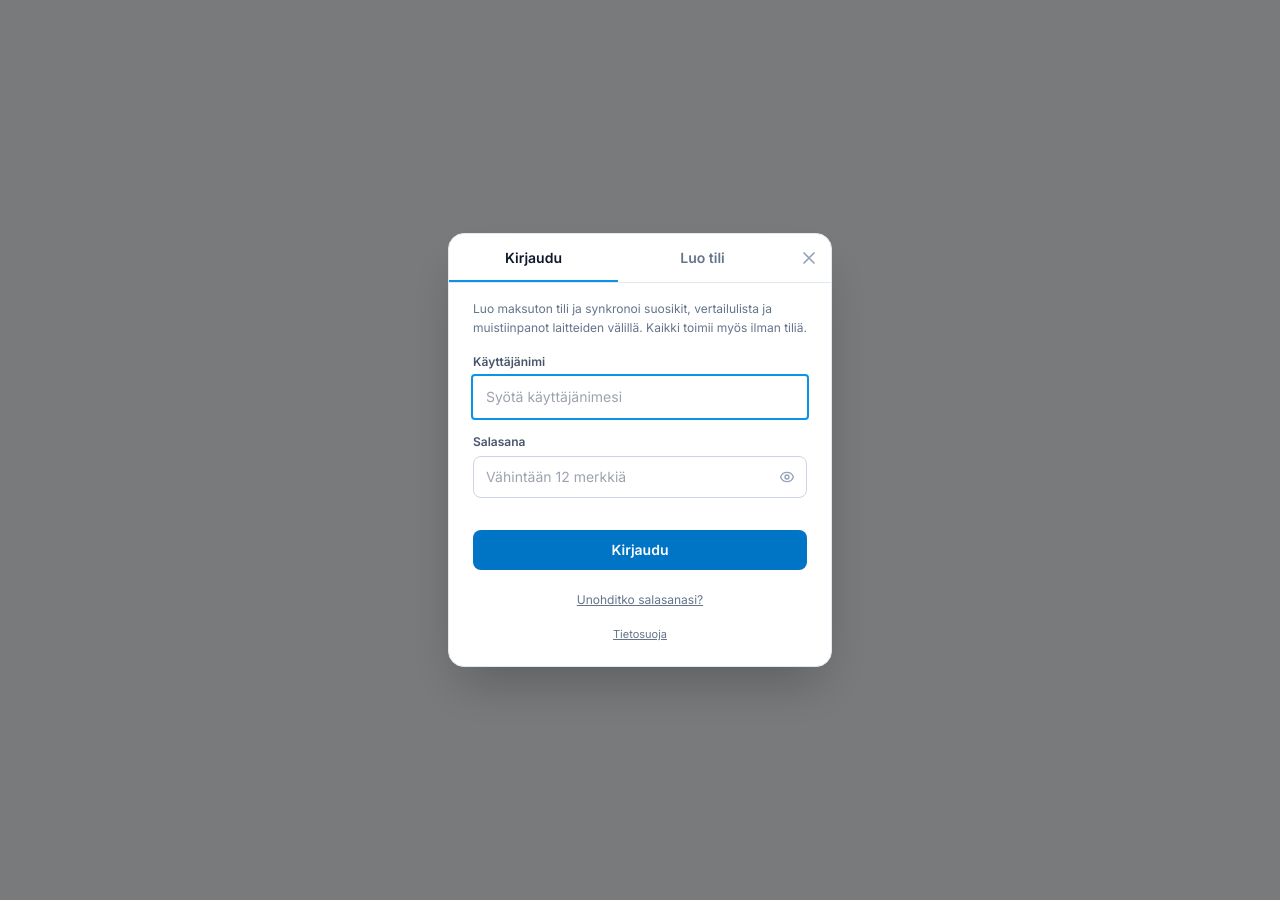
Test case: AuthModal — forgot password › returns to the login form from the reset view
What coordinates should you click on to do the following:
click the button "Unohditko salasanasi?"
I would click on:
 (640, 600)
Its box is [577, 592, 703, 608].
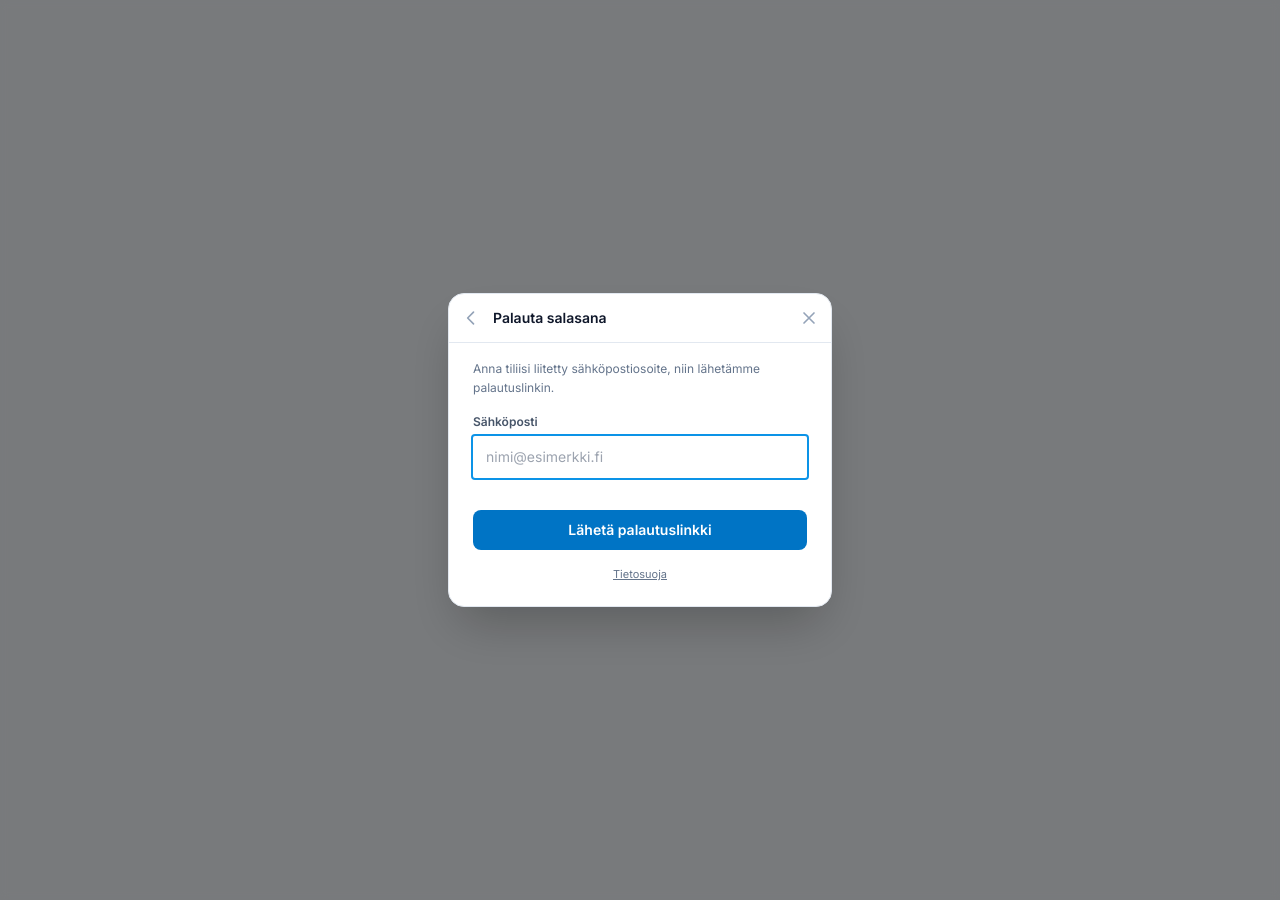
Expected: the button "Lähetä palautuslinkki" is shown, [473, 510, 807, 550]
What coordinates should you click on to do the following:
click the button named "Takaisin kirjautumiseen"
I would click on:
 (471, 318)
Its box is [449, 294, 493, 342].
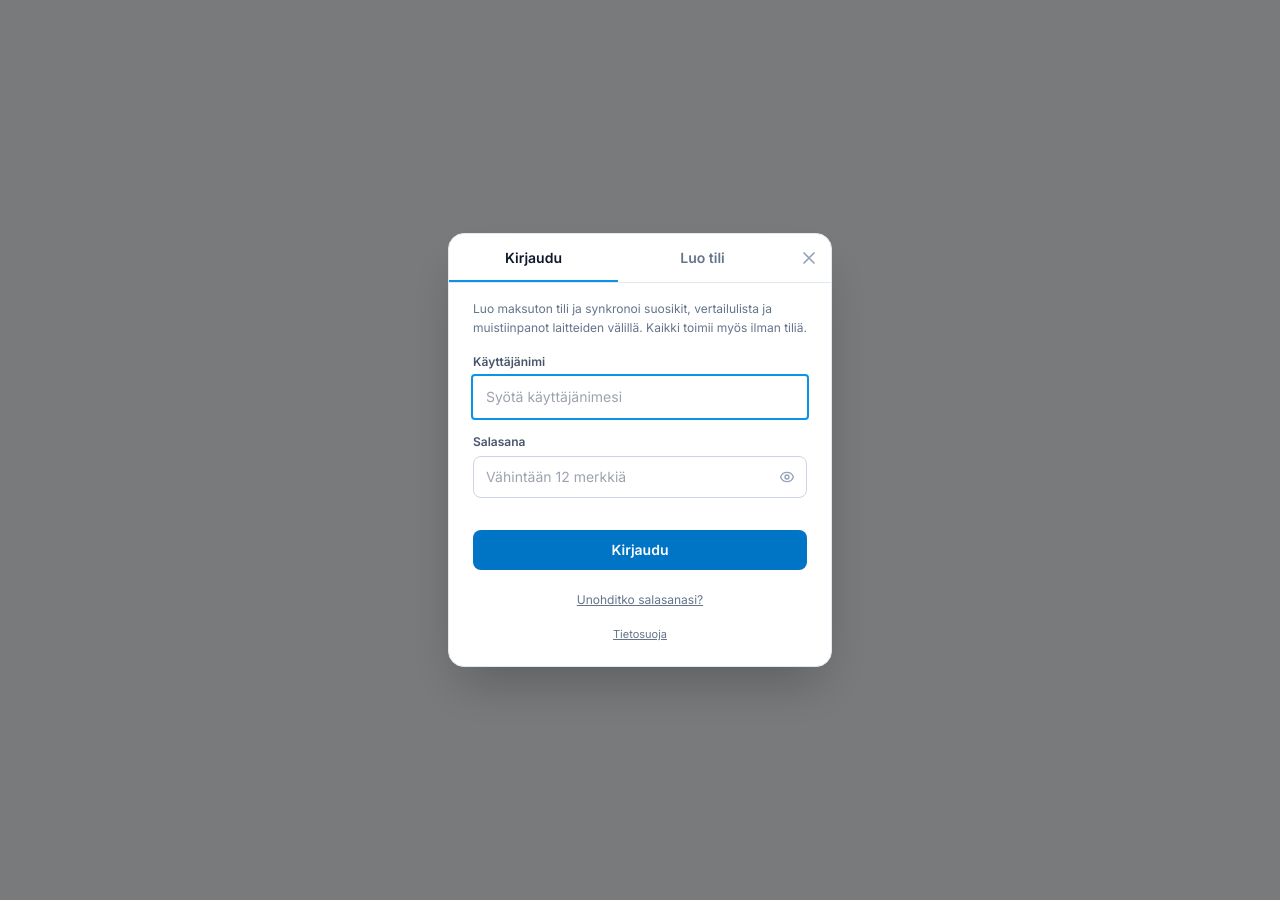
Expected: the field with placeholder "Syötä käyttäjänimesi" is shown, [473, 376, 807, 418]
Expected: the button "Lähetä palautuslinkki" is gone
